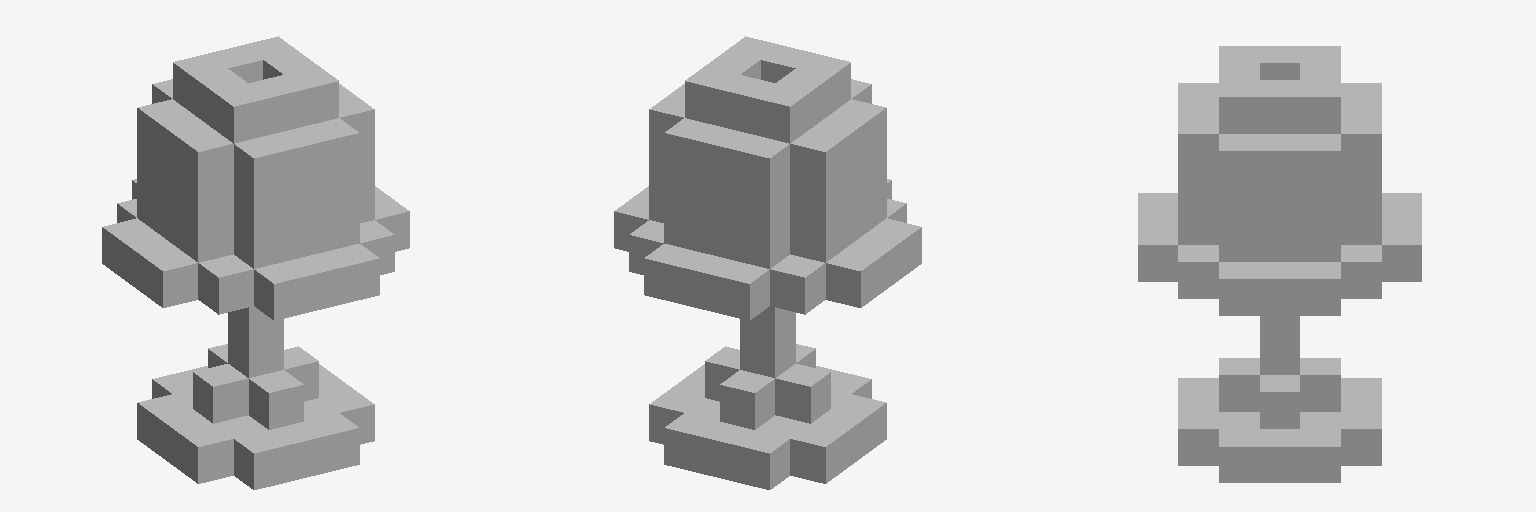
The model's file is lampe.obj.
The picture shows the model from 3 angles: view 1: azimuth 30°, elevation 25°; view 2: azimuth 150°, elevation 25°; view 3: azimuth 270°, elevation 25°; orthographic projection.
Parts seen in each view (by area): view 1: object 1; view 2: object 1; view 3: object 1.
Boxes of the visible parts, box(x1,y1,x2,y2) form: object 1: box(102, 36, 409, 489); object 1: box(614, 36, 921, 489); object 1: box(1138, 46, 1421, 482).
Size of the model in its own units: 0.7 by 1 by 0.7.